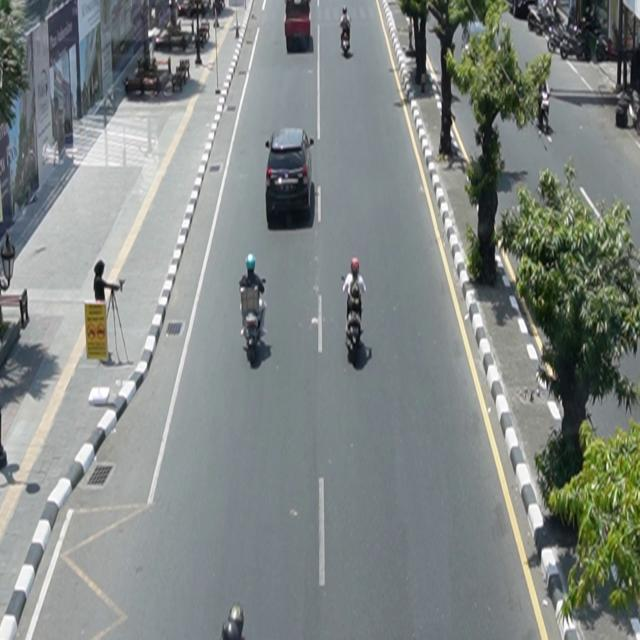car: (266, 127, 315, 223), (285, 1, 312, 53)
